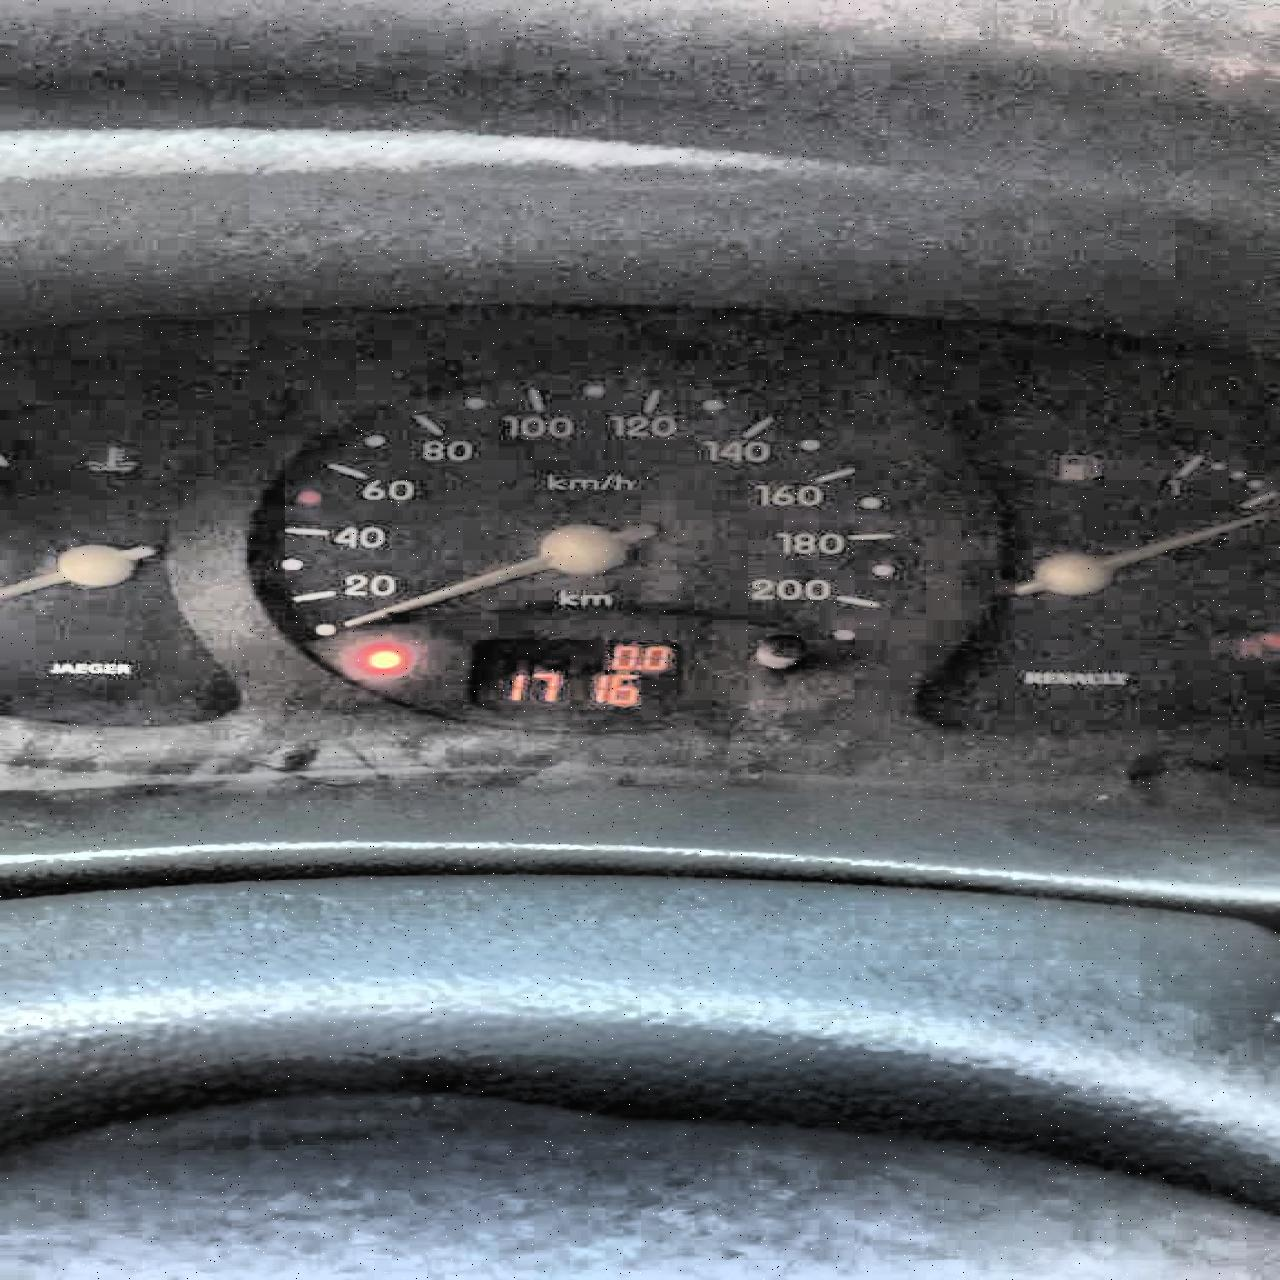-: (635, 661, 641, 670)
0: (641, 645, 666, 670), (610, 644, 634, 668)
1: (508, 668, 525, 703), (592, 673, 606, 703)
6: (607, 673, 636, 703)
7: (530, 670, 559, 701)
odometer: (468, 636, 686, 710)
